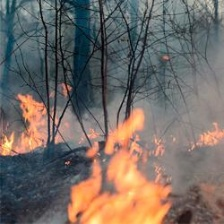fire: (75, 127, 166, 224), (13, 95, 56, 155)
smoke: (170, 41, 224, 145)
